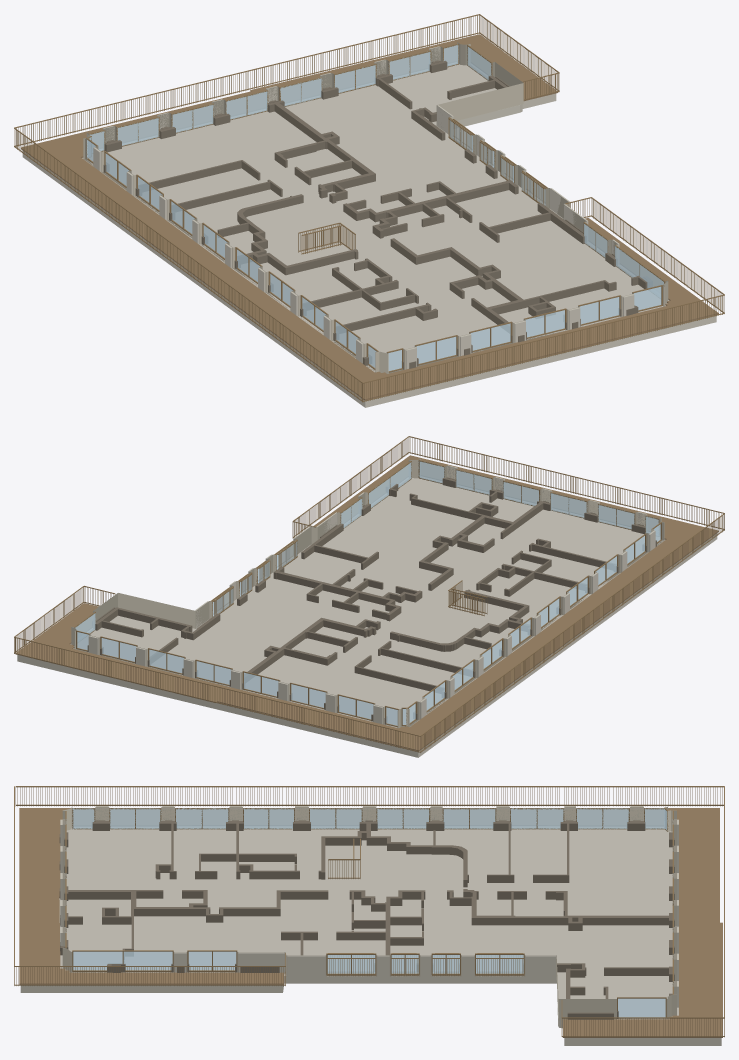
3 views of the same model, one above another, from view 1: azimuth 30°, elevation 25°; view 2: azimuth 150°, elevation 25°; view 3: azimuth 270°, elevation 25° (orthographic). The views are drawn at different scales.
Bounding box in the file's own units: 26.68 × 1.57 × 34.6.
